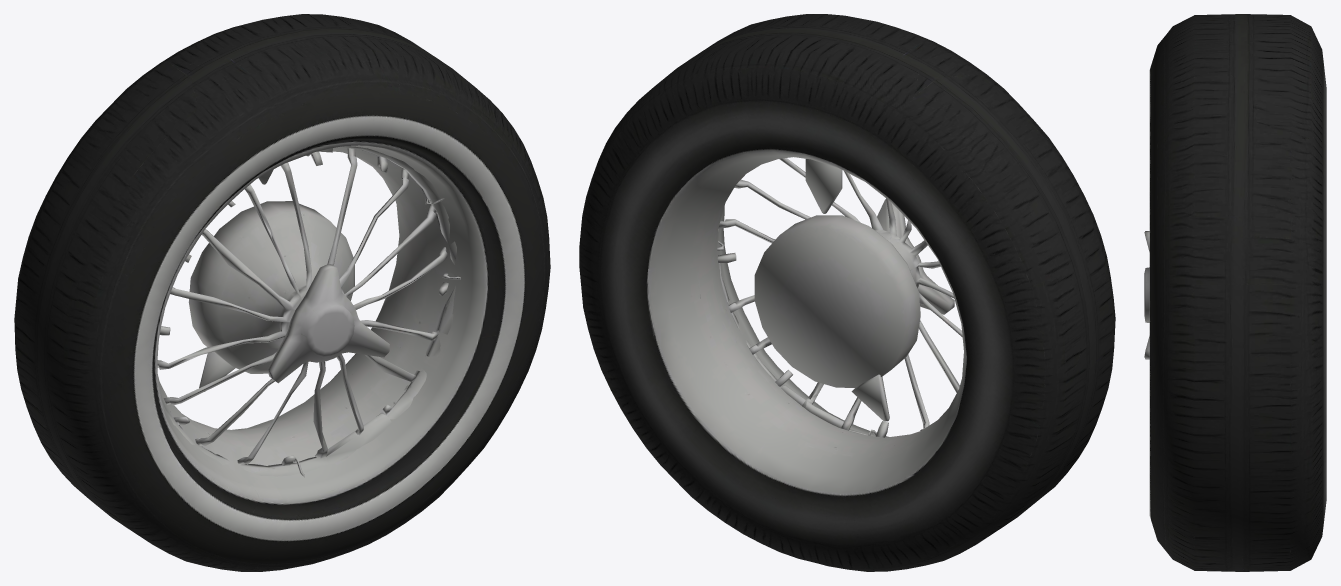
Rendered from optimized_glb.glb.
3 views of the same model, side by side, from view 1: azimuth 30°, elevation 25°; view 2: azimuth 150°, elevation 25°; view 3: azimuth 270°, elevation 25° (orthographic).
Parts seen in each view (by area): view 1: wheel; view 2: wheel; view 3: wheel.
Part boxes in pixels (x1,y1,x2,y2): wheel: [14, 14, 550, 571]; wheel: [579, 14, 1115, 571]; wheel: [1144, 14, 1326, 571].
Bounding box in the file's own units: 0.998 × 0.998 × 0.3262.
1 material, 1 textured.
